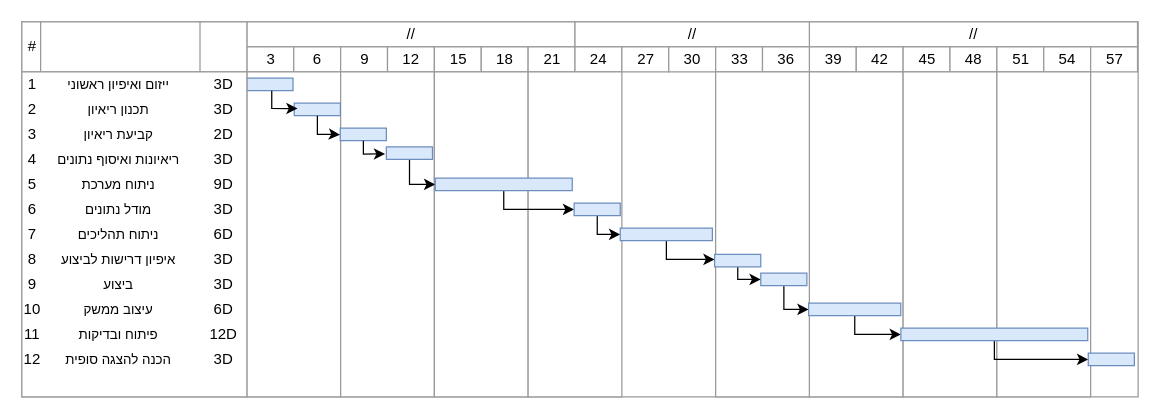
This 1160x419 diagram has some shape labels left out. Each missing label, with the centre of its shape:
Task: the point at 124,46
Time: the point at 223,46
